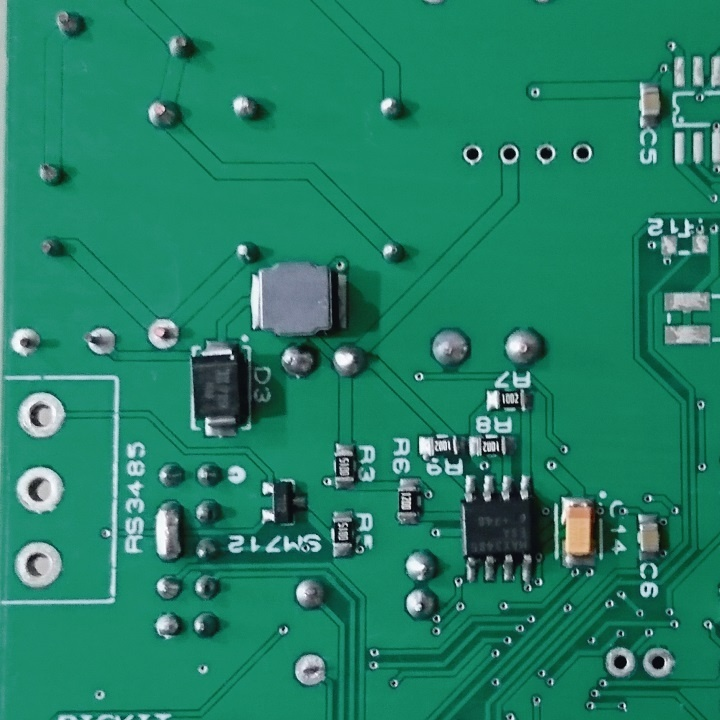F: (13, 462, 67, 518), (10, 537, 64, 593), (13, 388, 67, 440), (639, 643, 678, 683), (290, 649, 328, 689), (144, 315, 181, 355), (82, 321, 119, 359), (602, 644, 638, 683), (6, 326, 44, 360), (569, 139, 595, 169), (533, 138, 557, 169), (496, 141, 521, 169), (461, 139, 484, 167)
P: (151, 497, 186, 566)
